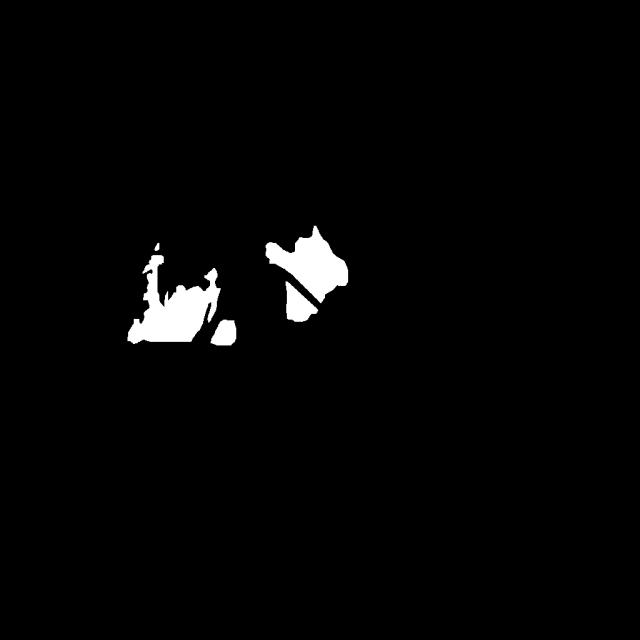fire: (109, 186, 398, 397)
